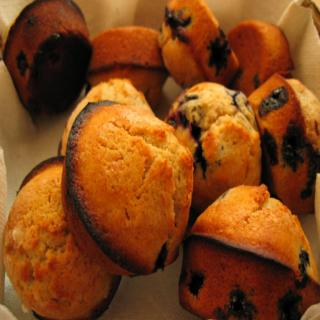Muffin: (1, 0, 320, 319), (68, 104, 194, 276)
